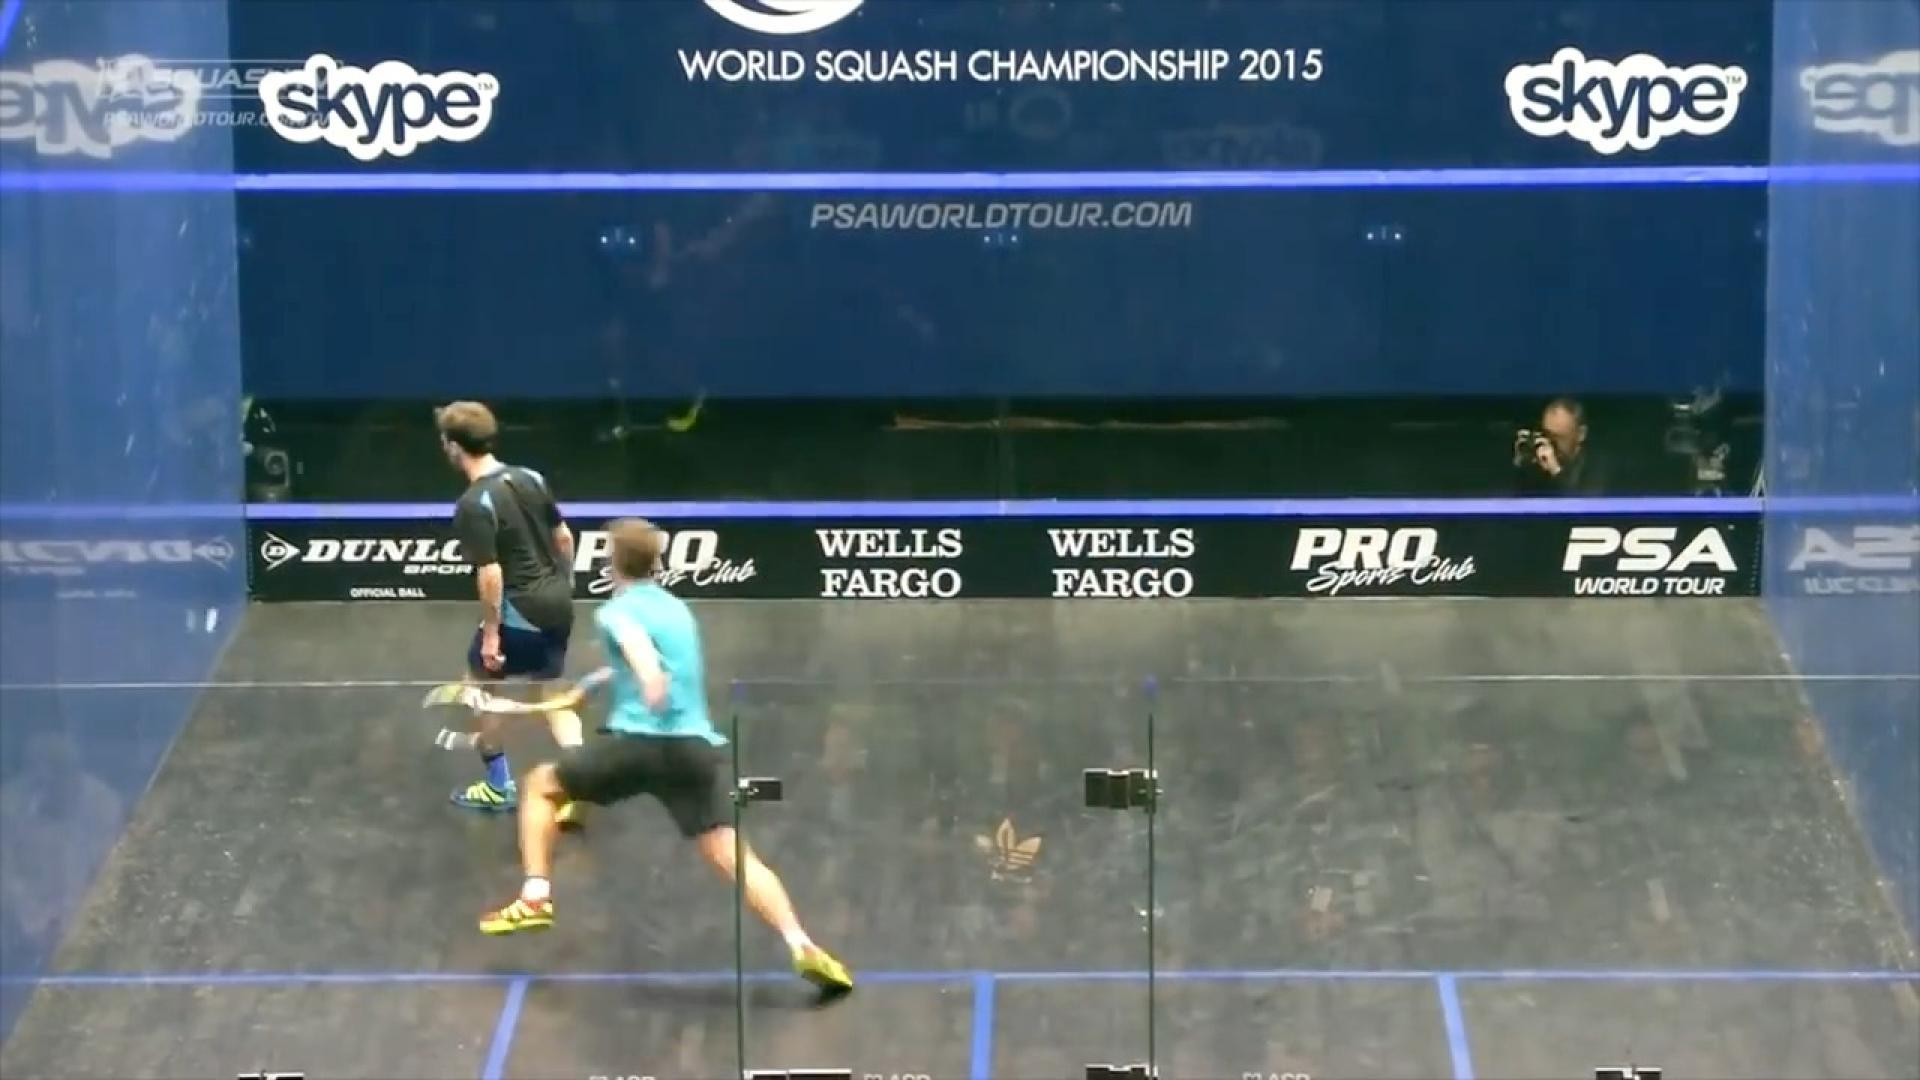Squash-Ball: (200, 600, 228, 647)
